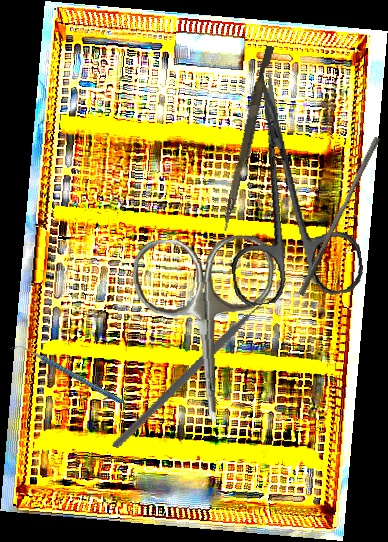Chopper: (111, 266, 288, 480), (9, 315, 125, 435)
Iris Scissors: (206, 68, 366, 308), (130, 234, 283, 426)
Pusher: (297, 133, 382, 300), (221, 44, 275, 233)
